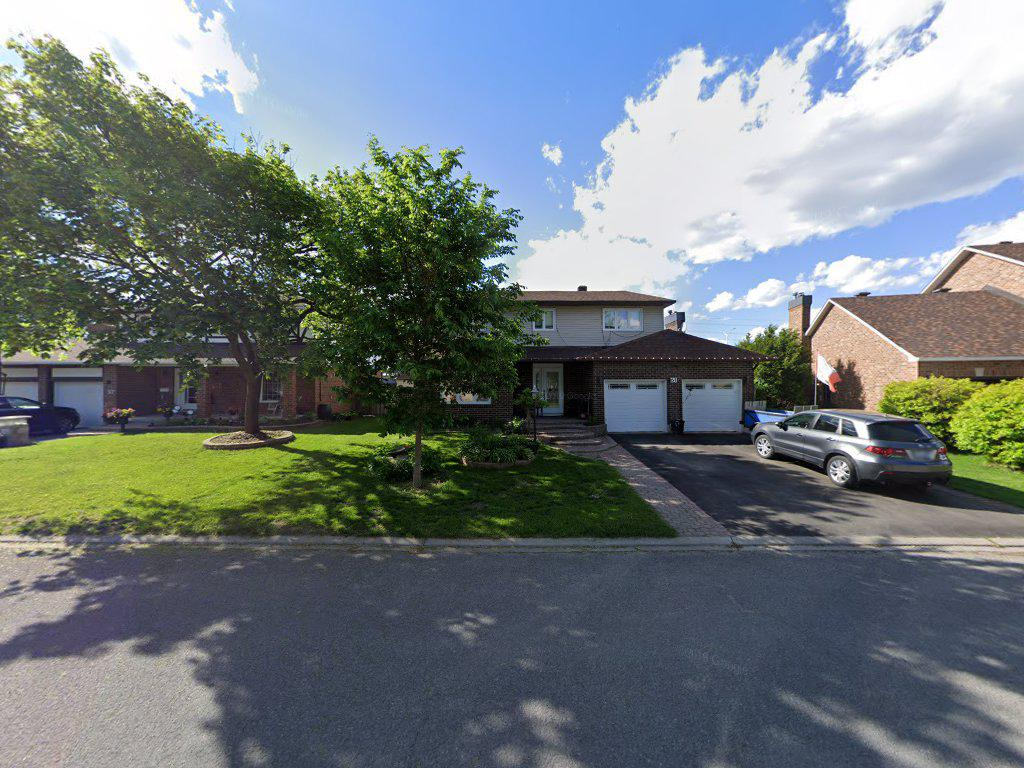trunk: (235, 349, 267, 443), (410, 418, 426, 495)
